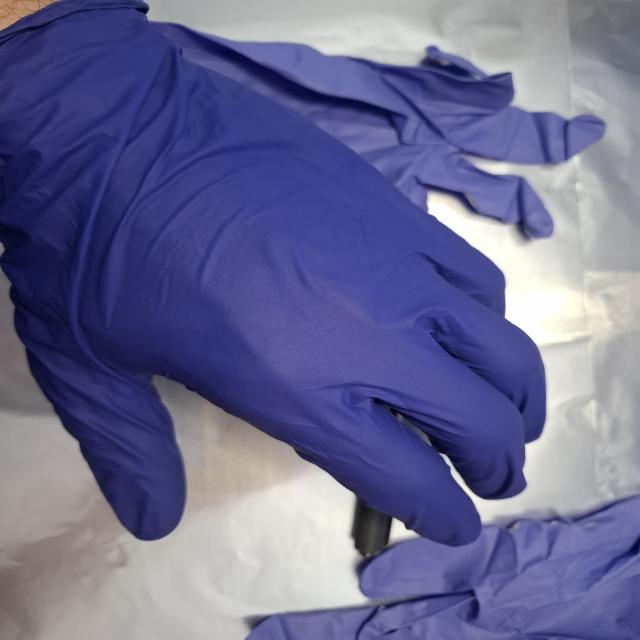glove_on: (0, 2, 556, 550)
